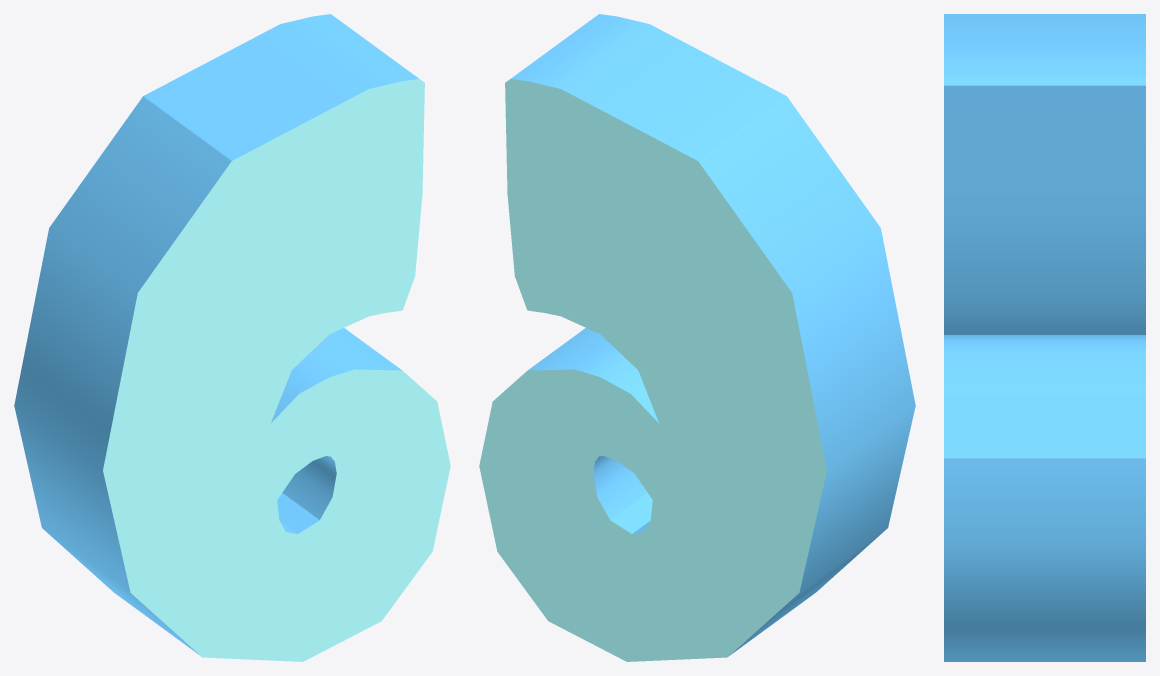
3 renders of one model, left to right at view 1: azimuth 30°, elevation 25°; view 2: azimuth 150°, elevation 25°; view 3: azimuth 270°, elevation 25°, orthographic. The views are drawn at different scales.
Parts seen in each view (by area): view 1: 6; view 2: 6; view 3: 6.
Boxes of the visible parts, x1,y1,x2,y2 form: 6: (14, 14, 450, 661); 6: (479, 14, 915, 661); 6: (944, 14, 1145, 661).
Size of what is drawn, in the model's own units: 0.4076 by 0.6235 by 0.18.
